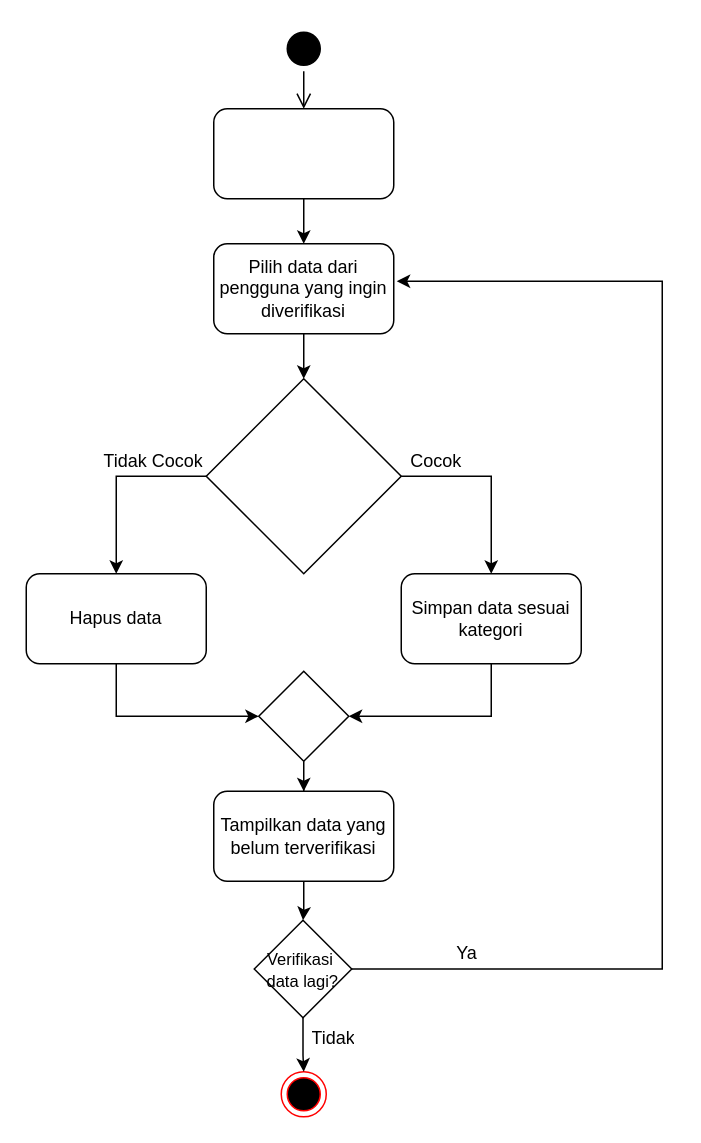
The diagram is 701 pixels wide and 1143 high, and some of its shapes have lost their labels. The shapes that lost their labels are listed below. From the top down, each one's centre as x and y in pixels, then its label:
point (303, 153): Pilih tab kategori Entries from Users
point (303, 475): Cocokkan data inputan pengguna dengan data aktual
